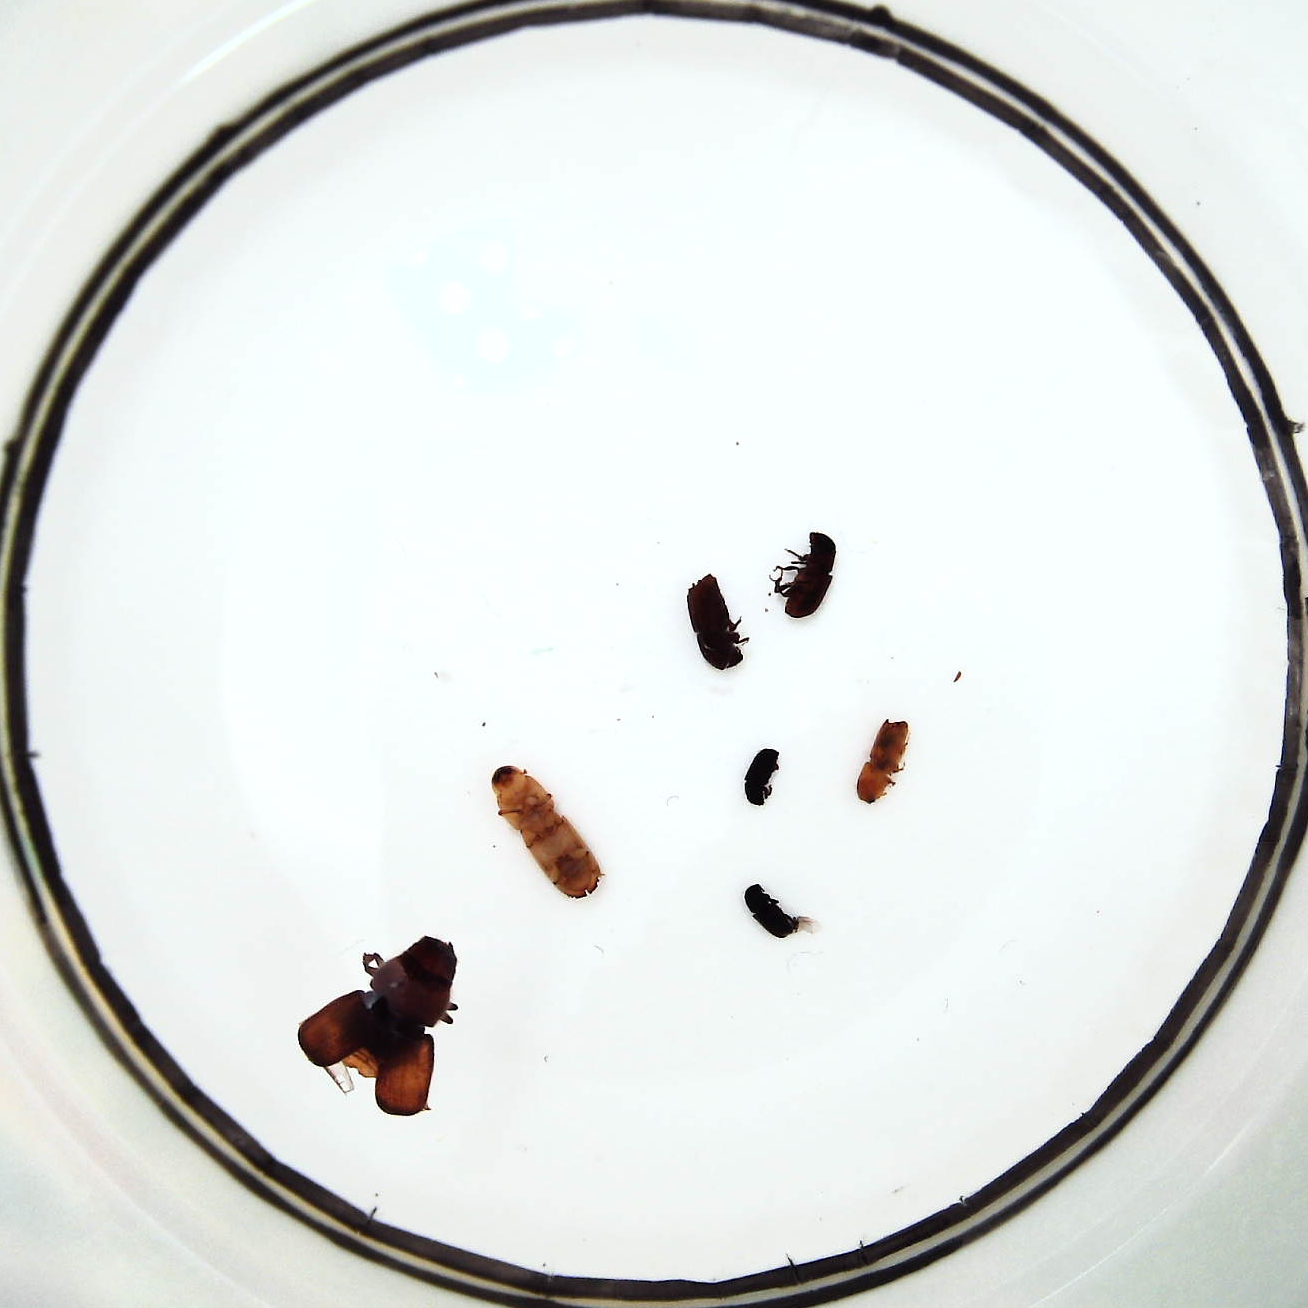Boerner: (489, 762, 602, 900)
Leconte: (299, 929, 458, 1116)
Linnaeus: (685, 571, 740, 670)
acuminatus: (856, 717, 910, 805)
armandi: (776, 532, 837, 619)
coleoptera: (740, 882, 798, 937), (745, 744, 779, 807)
